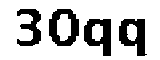0: (52, 5, 81, 52)
3: (14, 4, 43, 50)
q: (84, 11, 117, 60), (120, 12, 150, 60)
